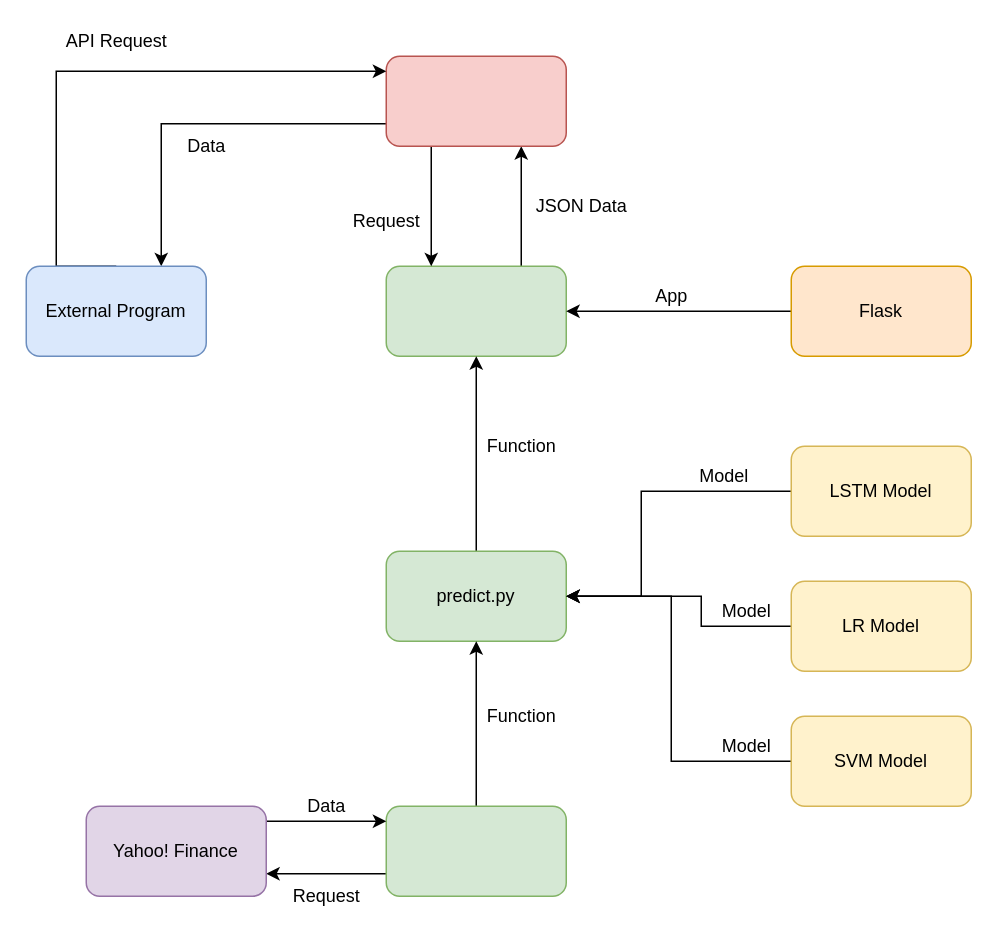
Some shapes in this 998 by 936 pixel diagram are drawn without their labels. The centre of each missing label's shape, as x and y in pixels:
"api.py" belongs at pixel 475 310.
"localhost:5000" belongs at pixel 475 100.
"stock.py" belongs at pixel 475 850.
